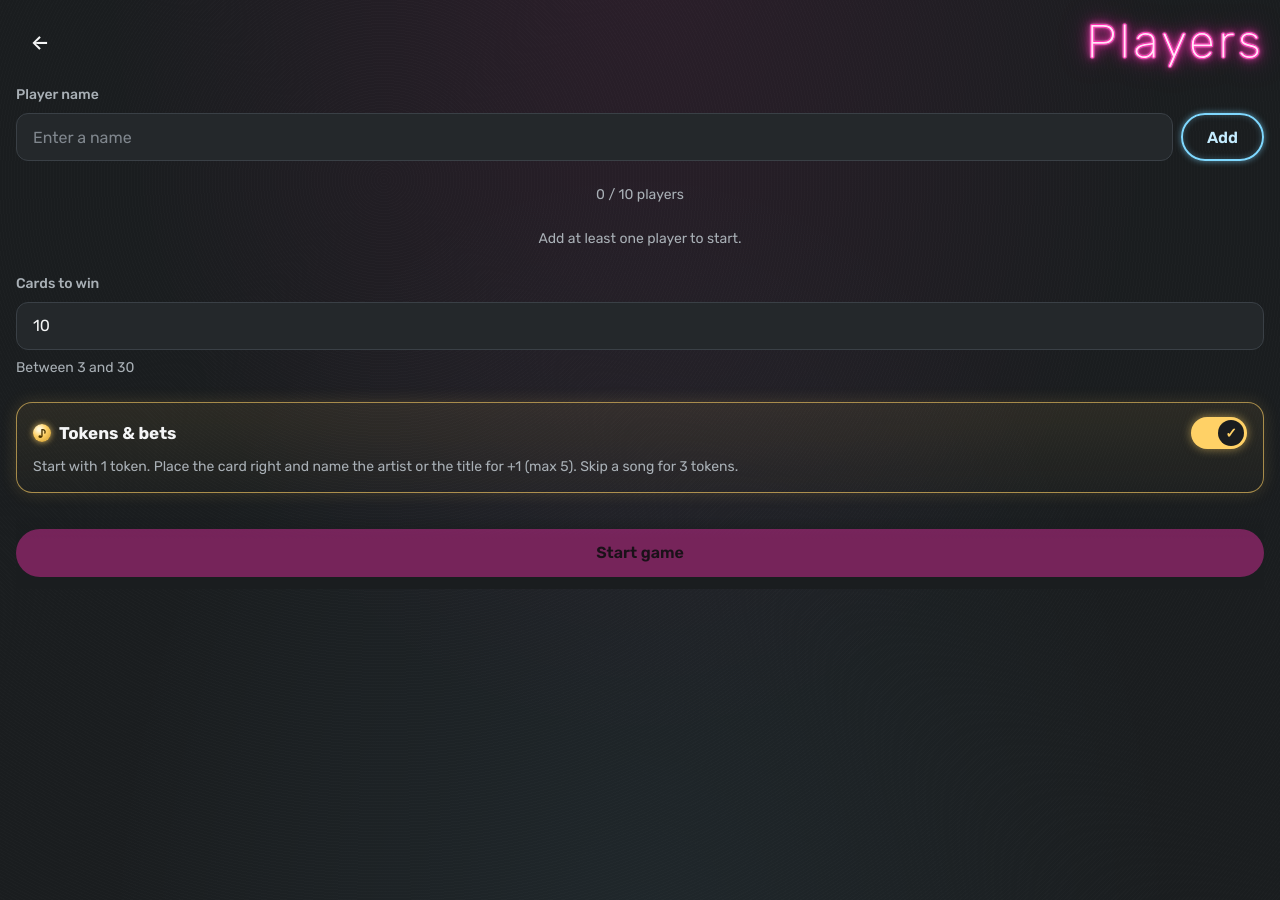
Test case: SetupScreen › rejects empty and duplicate names
This screenshot has width=1280, height=900.
Click the button with test id "btn-add-player" at (1222, 137), box [1181,113,1264,161]
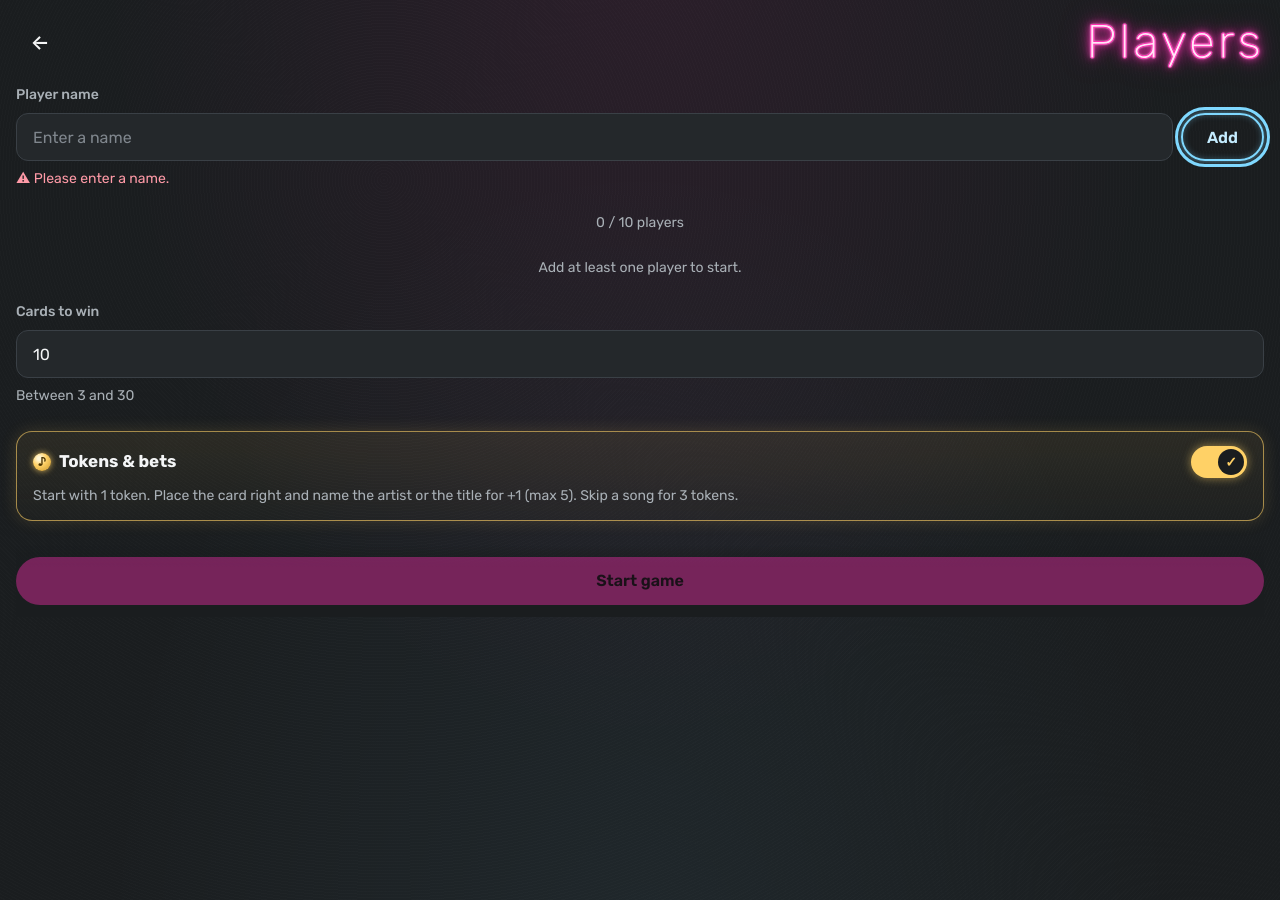
Result: the message reads "Please enter a name." at [34,170,169,187]
Type "Dana" into the field with test id "input-player-name" at (594, 137), box [16,113,1173,161]
Then press Enter
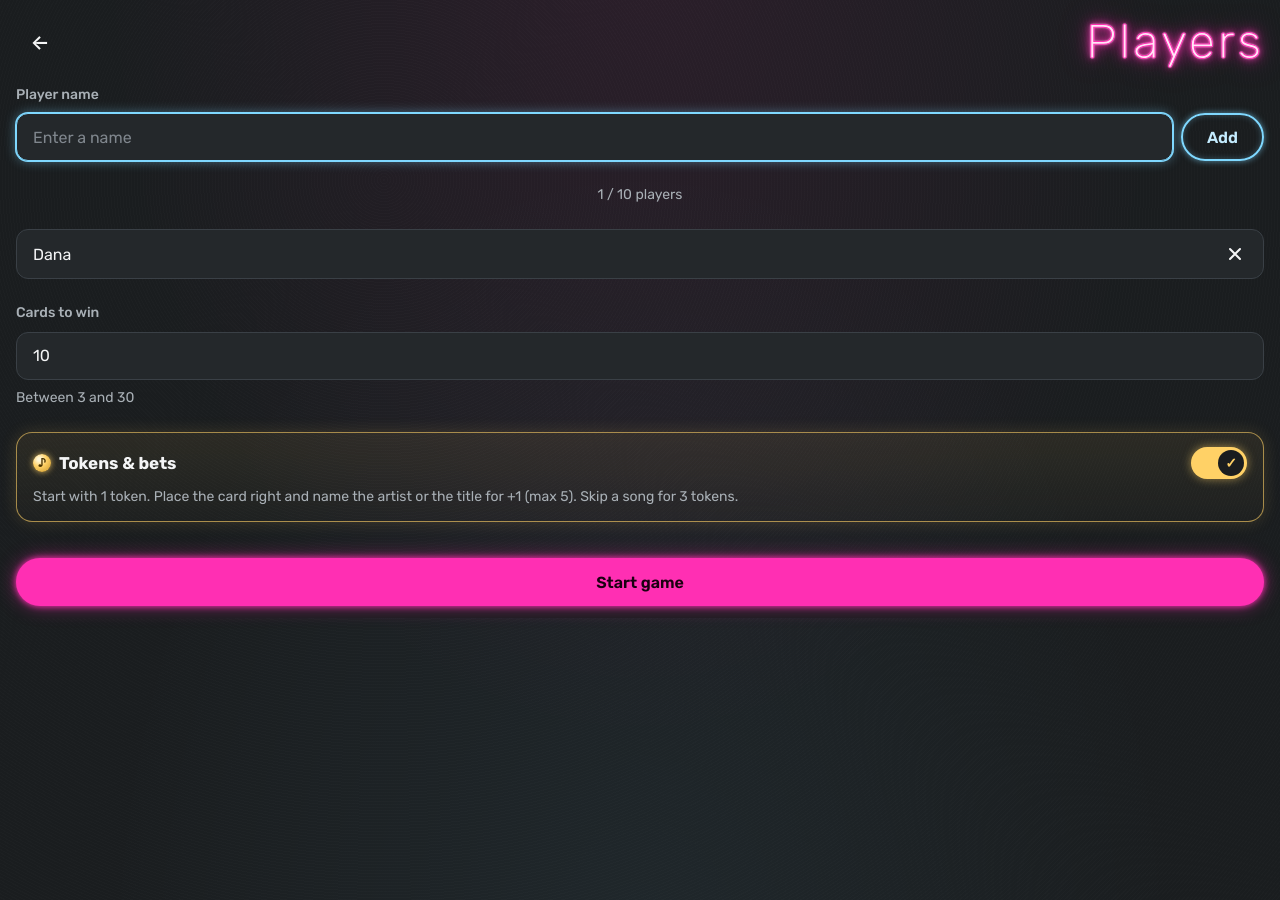
Type "dana" into the field with test id "input-player-name" at (594, 137), box [16,113,1173,161]
Then press Enter
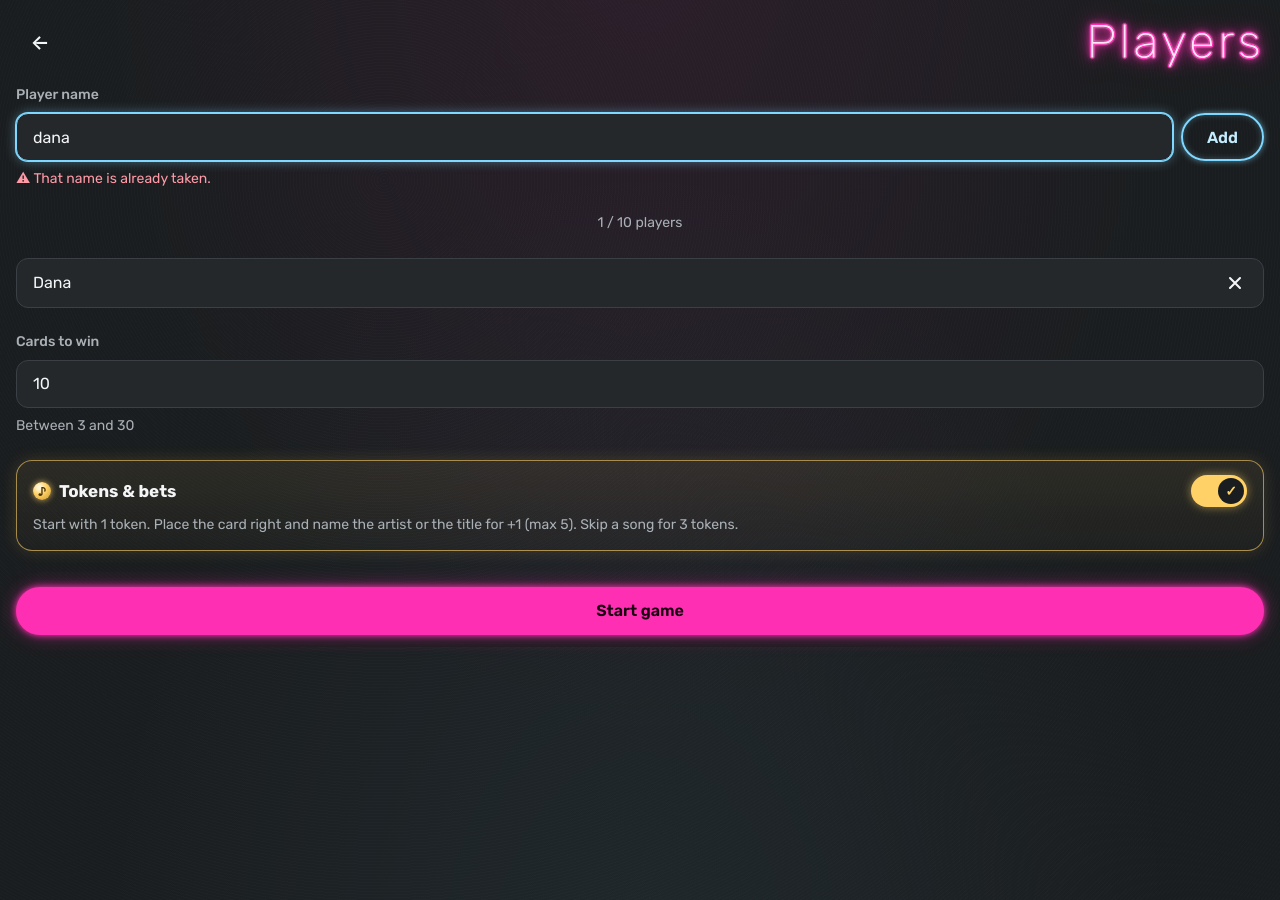
Result: the message shows "already taken" at [33,170,211,187]
